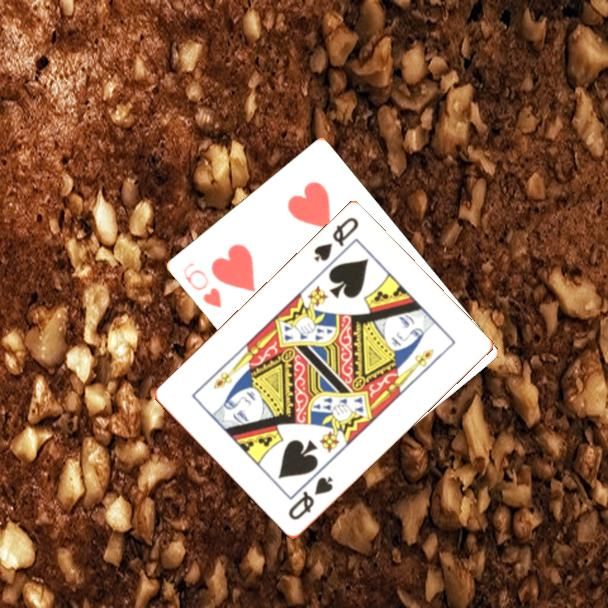h06: (179, 259, 224, 311)
s12: (310, 214, 362, 266), (285, 473, 336, 523)
